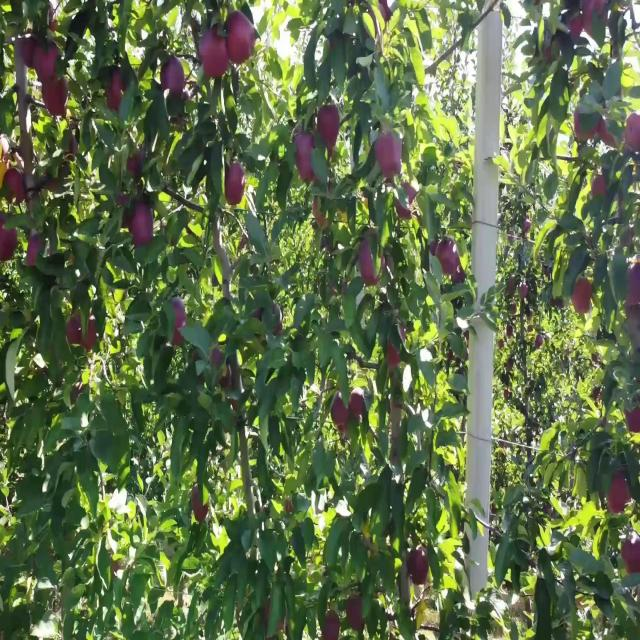apple: (200, 28, 229, 80), (228, 14, 256, 66), (360, 241, 387, 290), (376, 135, 404, 181), (160, 56, 187, 100), (128, 206, 155, 249), (316, 106, 341, 151), (364, 0, 392, 39), (296, 135, 317, 185), (44, 78, 68, 121), (36, 42, 60, 84), (224, 163, 247, 206), (608, 476, 632, 517), (0, 213, 19, 263), (408, 547, 430, 588), (436, 241, 460, 277), (576, 106, 600, 142), (584, 0, 608, 36), (16, 28, 37, 69), (388, 327, 408, 370), (4, 170, 27, 206), (108, 71, 127, 114), (172, 298, 188, 348), (572, 277, 593, 315), (396, 184, 417, 220), (348, 597, 365, 633), (624, 113, 640, 151), (332, 398, 349, 432), (80, 319, 98, 350), (192, 490, 208, 524), (625, 540, 640, 576), (28, 234, 43, 268), (68, 312, 82, 348), (628, 263, 640, 304), (312, 199, 328, 229), (128, 156, 145, 183), (324, 611, 340, 638), (604, 120, 618, 149), (116, 191, 130, 220), (352, 391, 365, 420), (592, 177, 608, 199), (48, 7, 61, 34), (628, 405, 640, 434), (568, 21, 584, 39), (452, 263, 465, 284), (628, 291, 640, 308), (0, 158, 8, 183), (520, 284, 529, 299), (544, 49, 552, 64), (536, 334, 544, 348), (508, 327, 514, 340), (288, 504, 294, 512)
